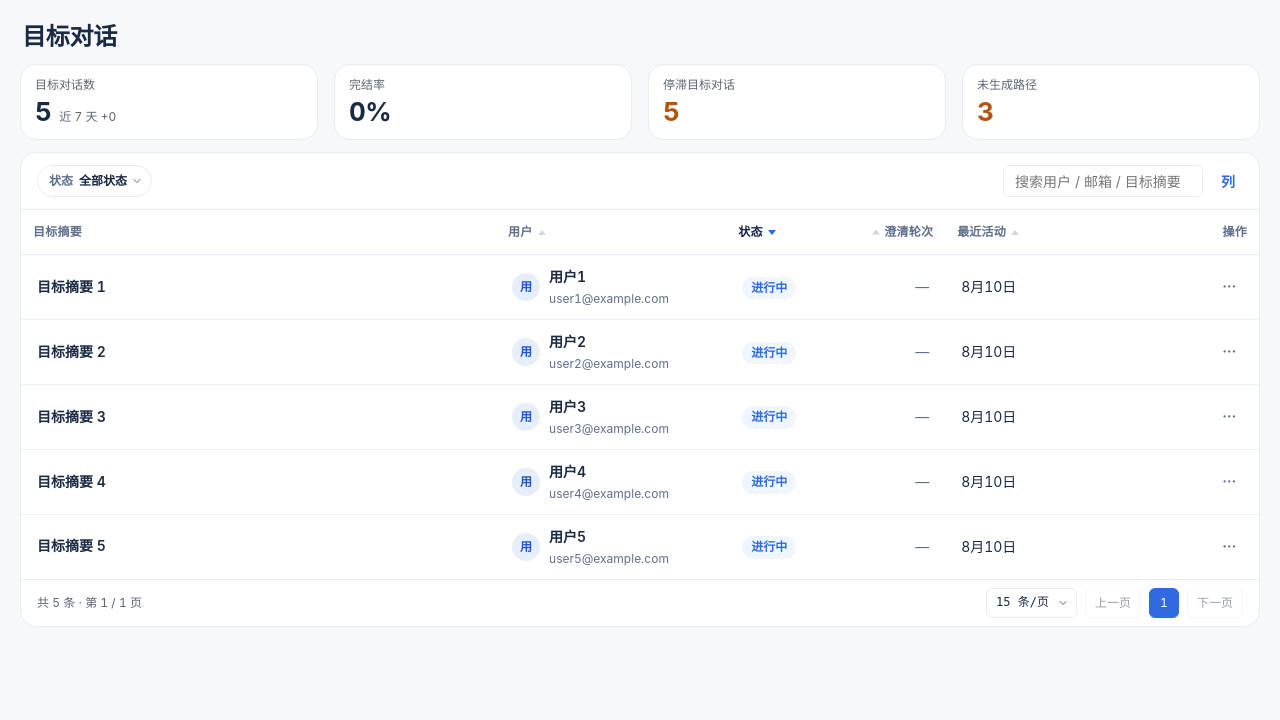
Test: GoalConversations 状态桶口径 / 停滞信号 / 行点击语义（P1#5、P1#6、2026-10-02 对齐） › 不再有独立「路径」列或「路径」按钮：路径入口收进 ⋯ 菜单
Expected: the text "路径" is not shown
// makeConv：偶数行有 learningPathId → ⋯ 菜单出现「查看路径」；奇数行没有
Click the button with class "mk-menu__btn" in the row of "目标摘要 2" at (1229, 352), box [1215,338,1243,366]
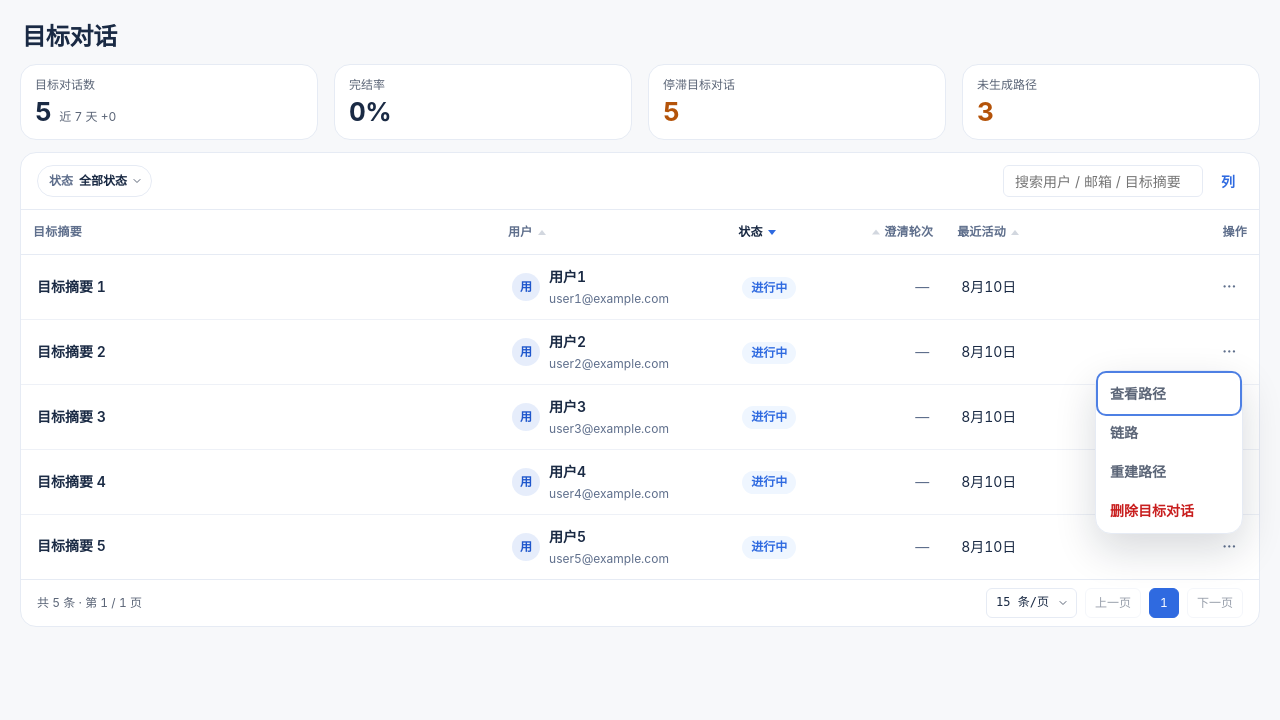
Result: the menu item with class "mk-menu__item" reads "查看路径" at [1100,375,1238,412]
Click the button with class "mk-menu__btn" in the row of "目标摘要 1" at (1229, 287), box [1215,273,1243,301]
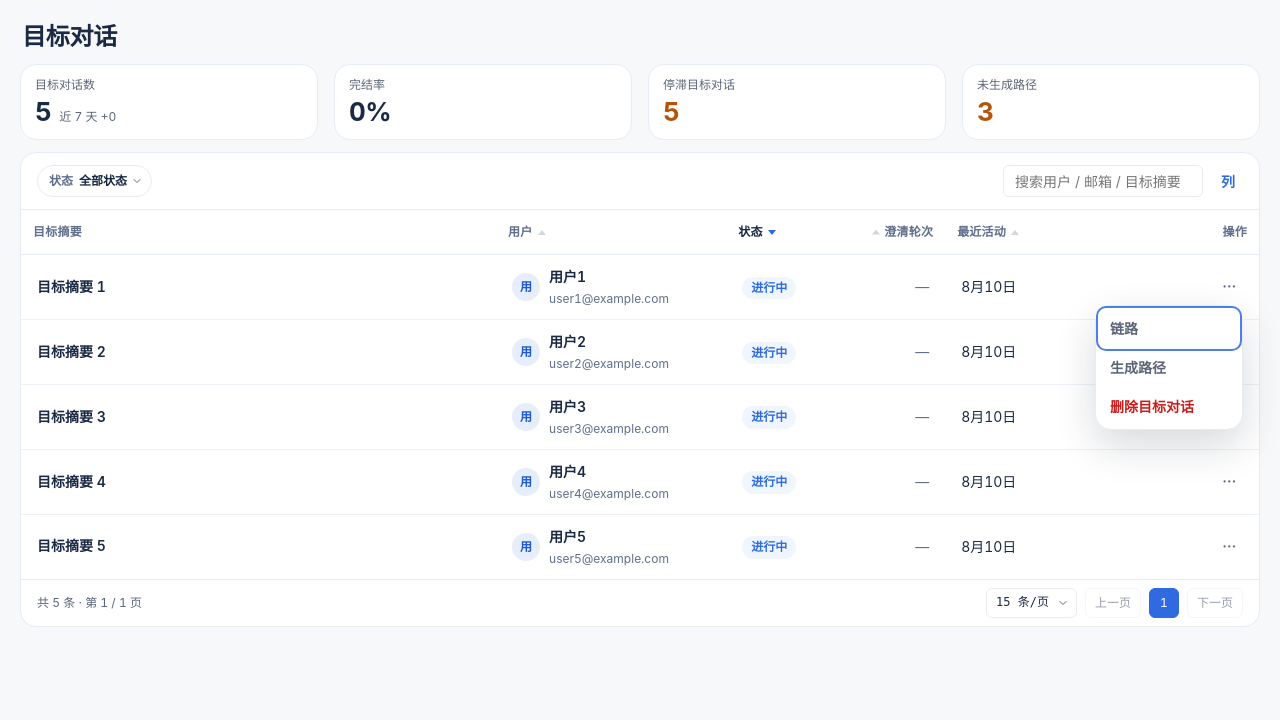
Result: the menu item with class "mk-menu__item" no longer shows "查看路径"
